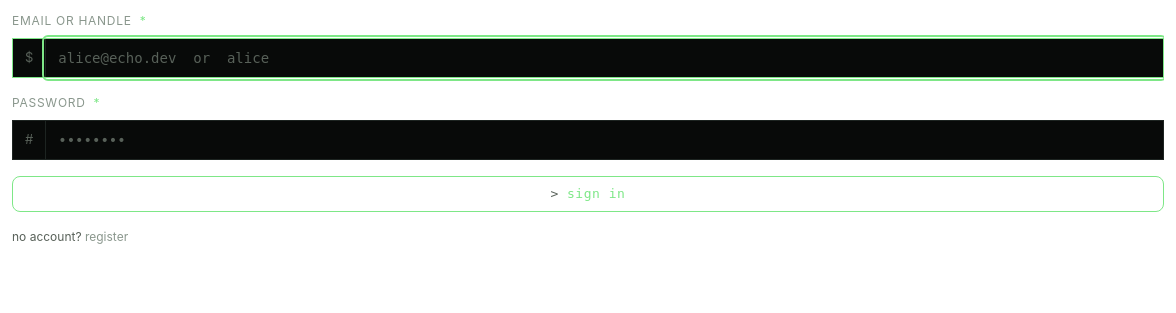
it: LoginForm › shows zod errors when submitting with invalid values
This screenshot has width=1176, height=313.
Click the button "> sign in" at (588,194), box [12,176,1164,212]
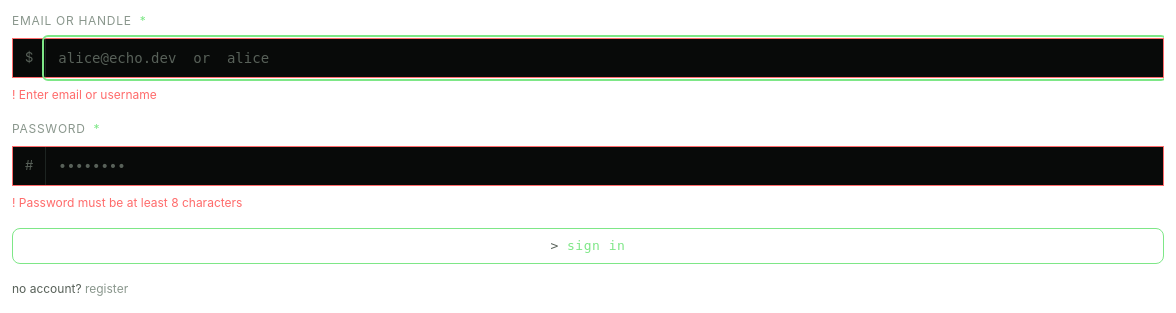
Expected: the text "Enter email or username" is shown, [19,87,157,102]
Expected: the text "Password must be at least 8 characters" is shown, [19,195,242,210]
